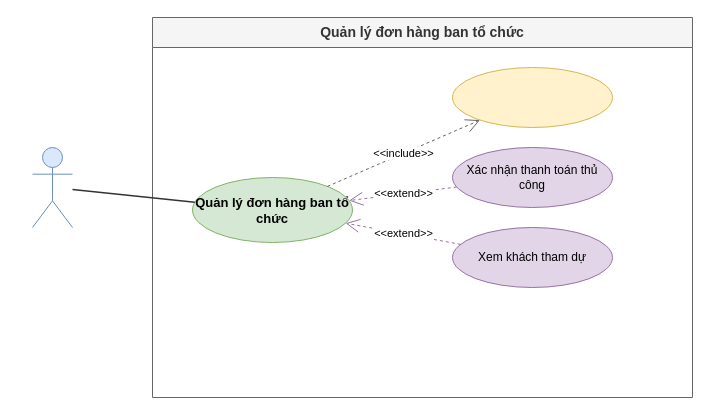
The diagram is 710 pixels wide and 415 high, and some of its shapes have lost their labels. The centre of each missing label's shape, as x and y in pixels:
Ban tổ chức: (x=52, y=187)
Xem danh sách đơn hàng: (x=532, y=97)
